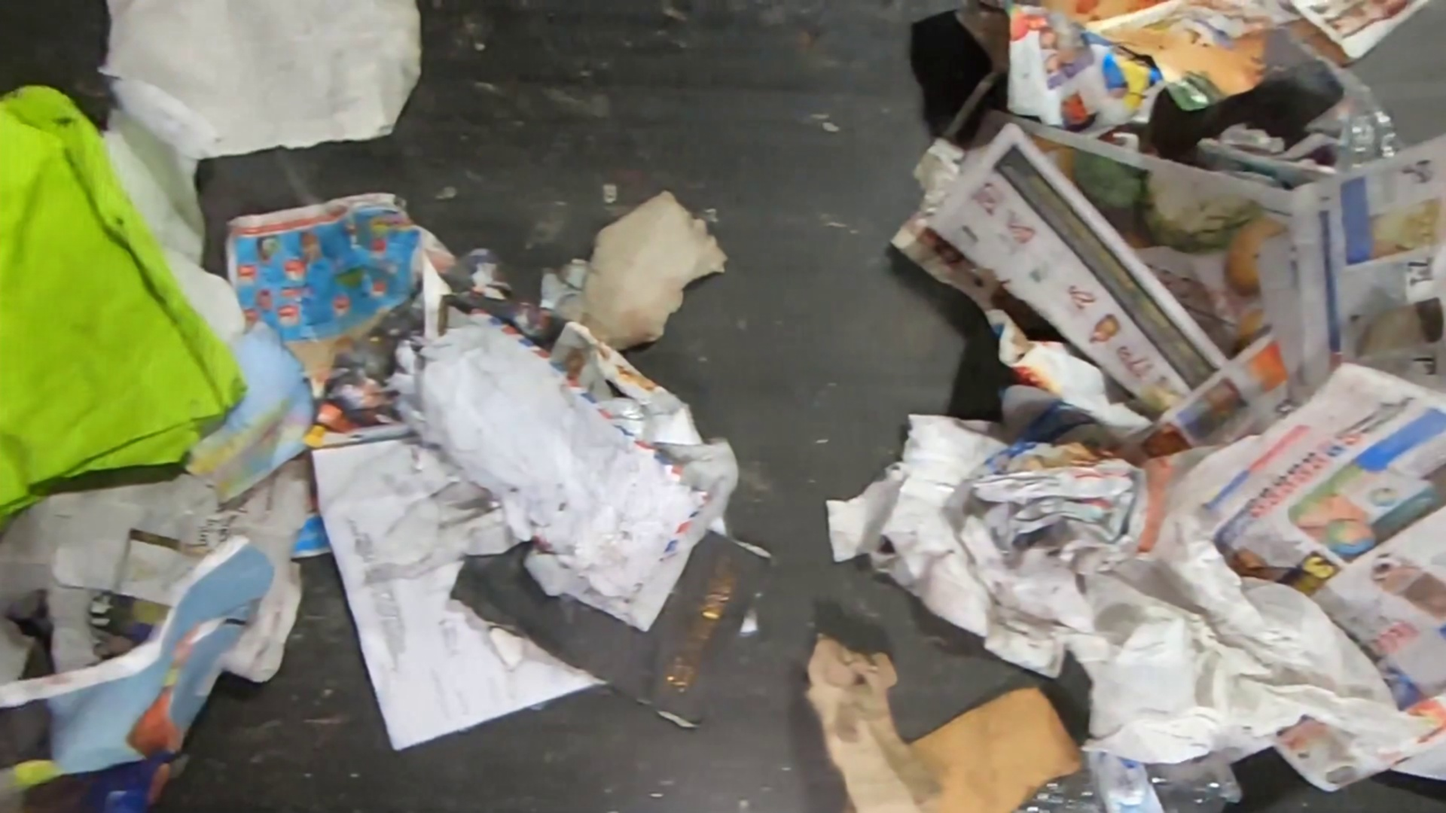cardboard: (800, 635, 1081, 813)
plastic: (1016, 747, 1246, 813), (1341, 66, 1408, 170)
